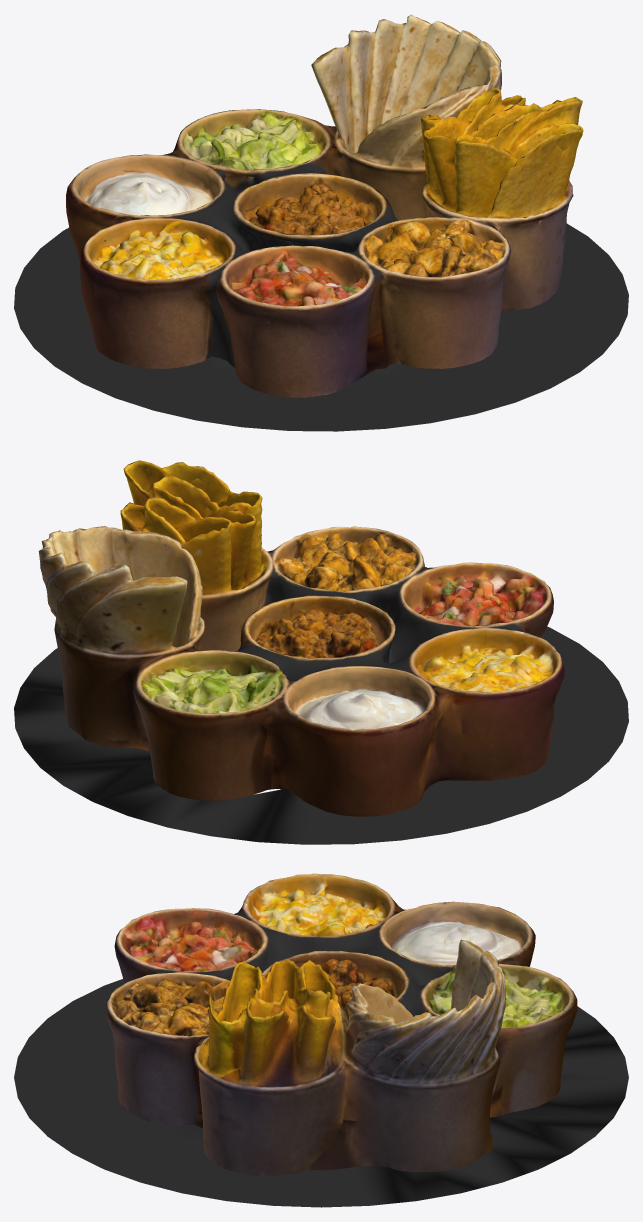
The model's file is Taco_Kit(Offers_Category)_1757009658196.glb.
3 renders of one model, top to bottom at view 1: azimuth 30°, elevation 25°; view 2: azimuth 150°, elevation 25°; view 3: azimuth 270°, elevation 25°, orthographic.
Visible parts, largest first — view 1: 3DModel; view 2: 3DModel; view 3: 3DModel.
Part boxes in pixels (box(x1,y1,x2,y2)): 3DModel: box(14, 14, 628, 431); 3DModel: box(14, 460, 628, 844); 3DModel: box(14, 873, 628, 1207).
Bounding box in the file's own units: 45.58 × 15.78 × 45.58.
1 material, 1 textured.
